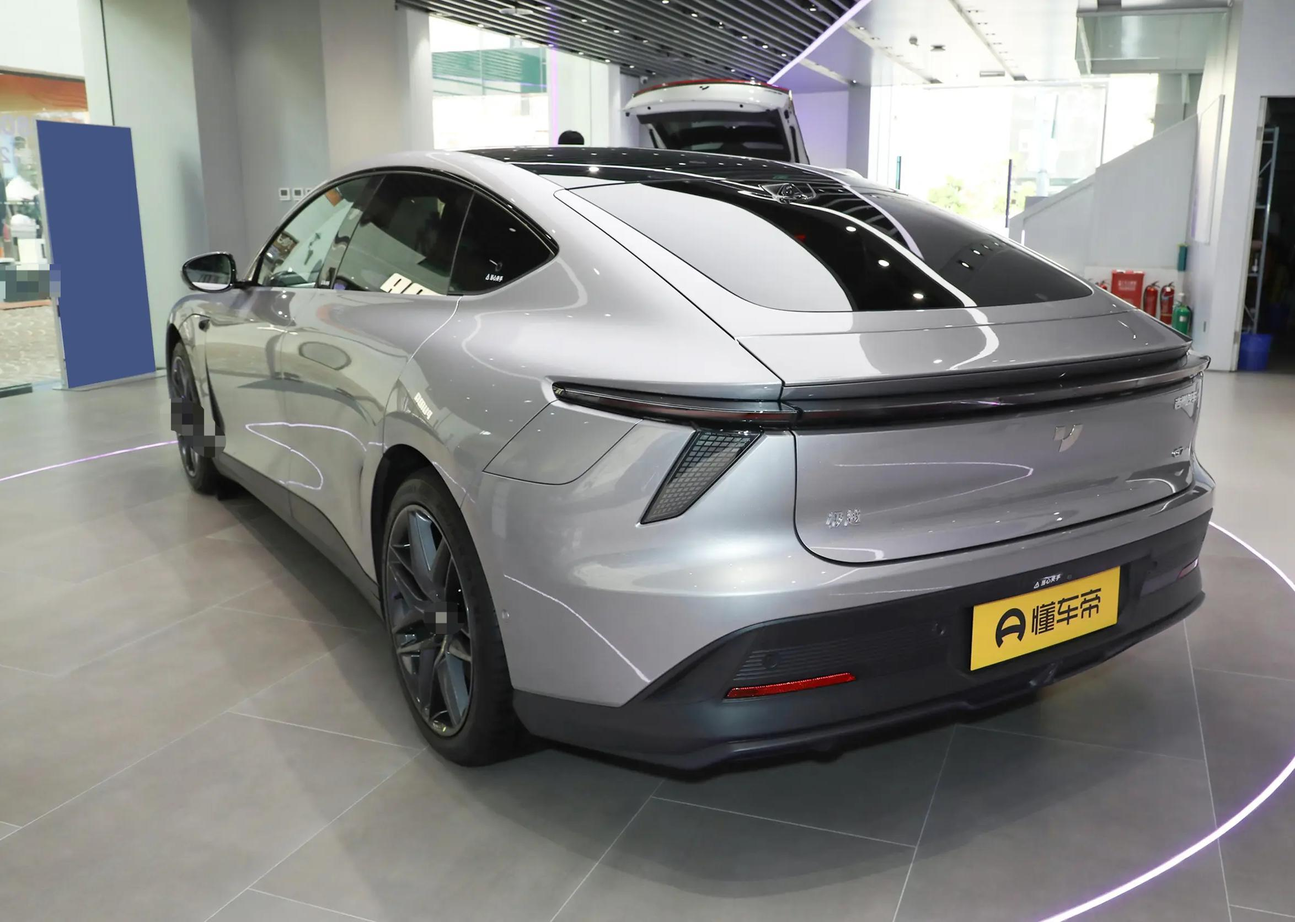JIYUE: (1052, 421, 1083, 454)
